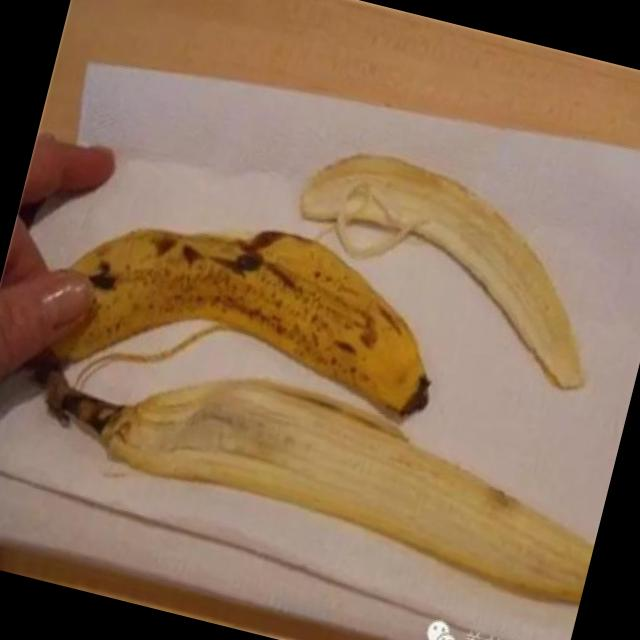banana-peel: (22, 324, 612, 609), (31, 178, 460, 462), (269, 134, 626, 394)
